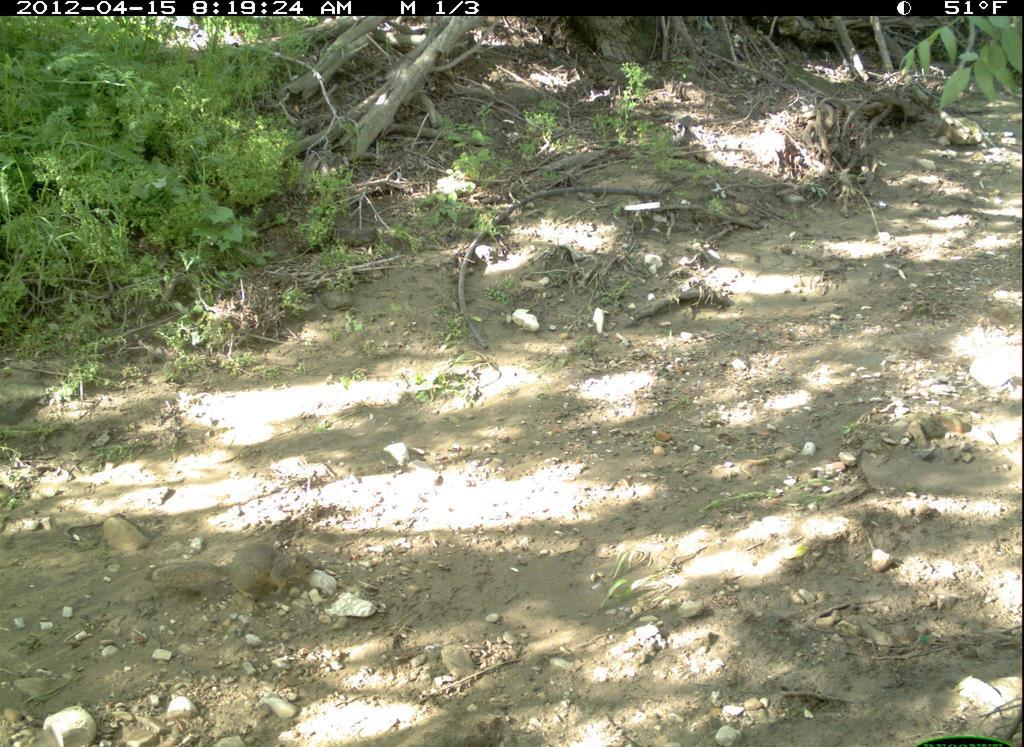squirrel: (140, 534, 342, 620)
